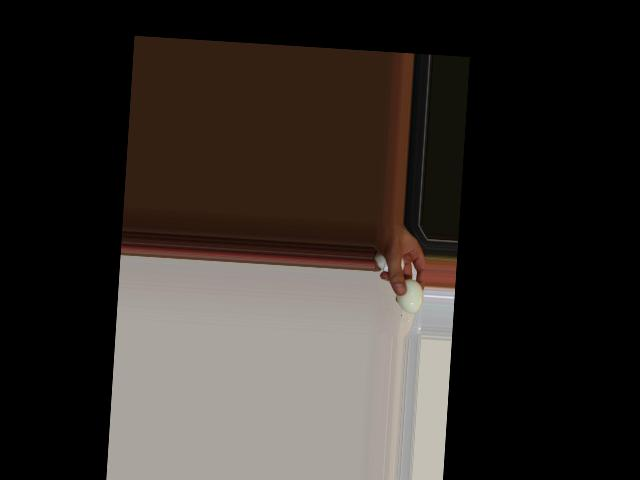egg: (394, 278, 424, 313)
